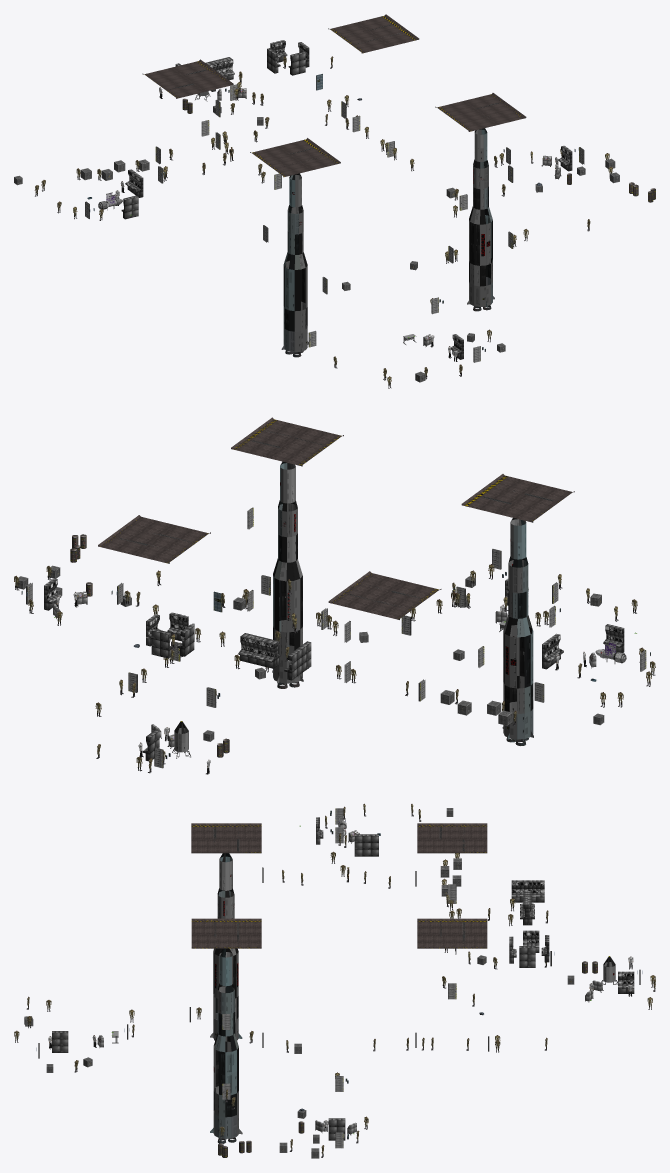
The picture shows the model from 3 angles, top to bottom: view 1: azimuth 30°, elevation 25°; view 2: azimuth 150°, elevation 25°; view 3: azimuth 270°, elevation 25°; orthographic projection. The views are drawn at different scales.
Visible parts, largest first — view 1: primary; view 2: primary; view 3: primary.
Part boxes in pixels (x1=…): primary: x1=14, y1=14, x2=655, y2=388; primary: x1=14, y1=417, x2=655, y2=774; primary: x1=14, y1=803, x2=655, y2=1158.
Size of the model in its own units: 3681 by 1292 by 3638.
658 materials, 658 textured.
